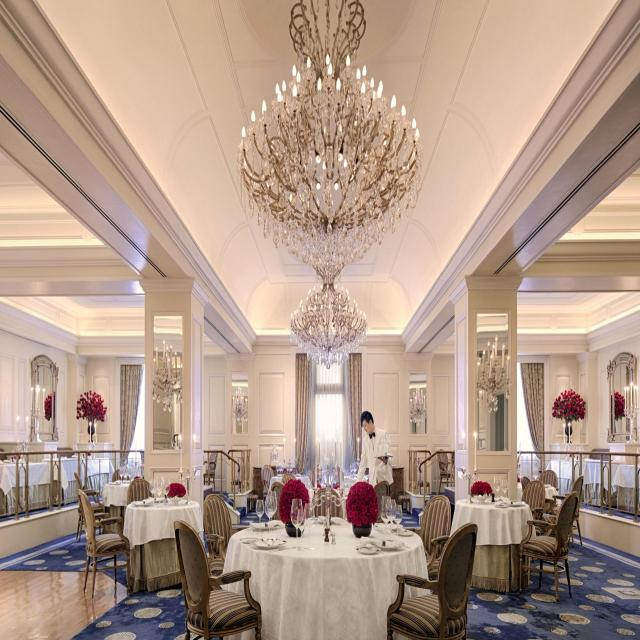person: (349, 408, 397, 504)
